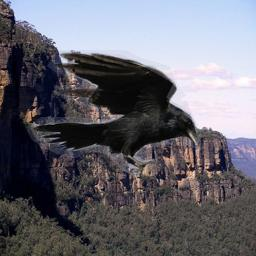Crow: (28, 50, 201, 176)
